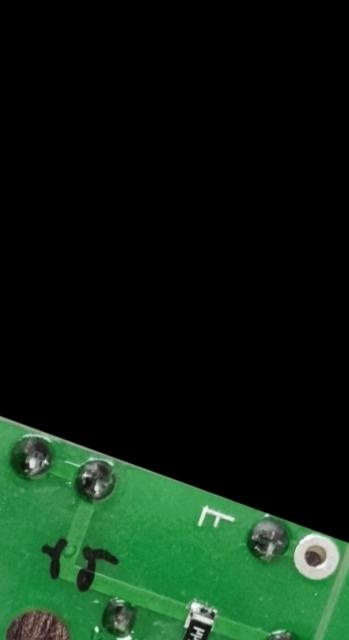chip-resistor: (162, 596, 220, 640)
